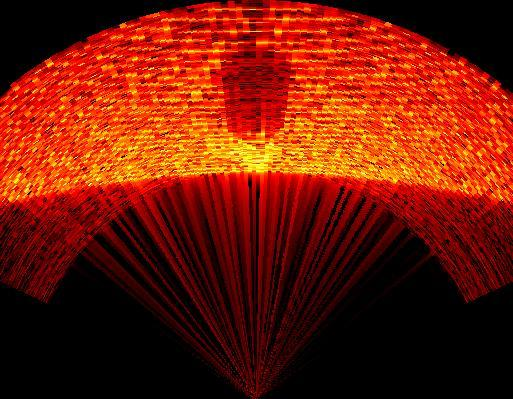box_crate: (222, 44, 292, 148)
